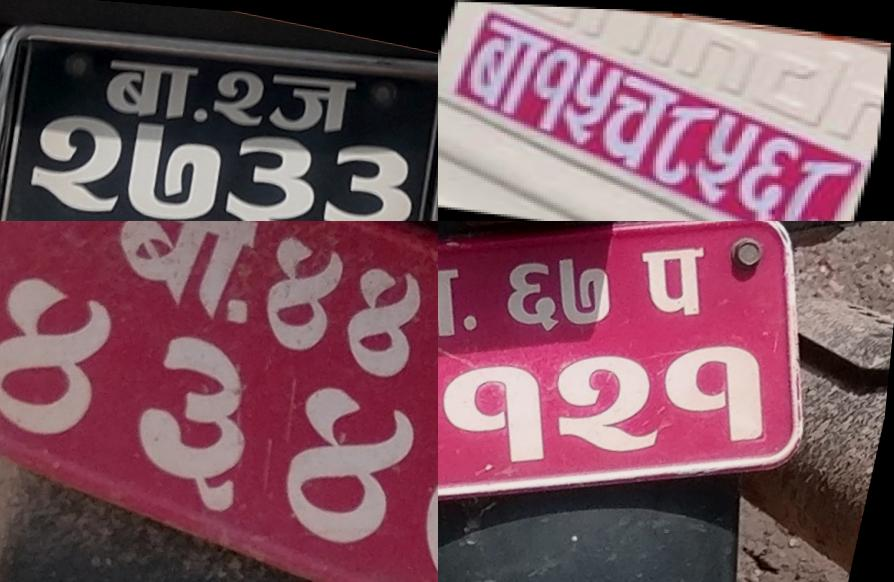0: (438, 250, 479, 345)
1: (552, 338, 675, 447), (520, 42, 589, 134)
2: (19, 95, 140, 221), (202, 55, 277, 129)
3: (121, 302, 286, 517), (438, 347, 568, 463), (662, 325, 789, 436), (221, 122, 333, 221), (319, 124, 433, 221)
4: (270, 361, 436, 558), (0, 252, 132, 450), (333, 238, 438, 380), (251, 221, 355, 350), (501, 250, 572, 330)
5: (688, 106, 765, 202), (559, 56, 624, 144)
6: (732, 125, 809, 221)
7: (117, 112, 237, 221), (548, 244, 626, 325)
8: (631, 227, 727, 314), (650, 97, 716, 185), (780, 151, 862, 221)
ba: (100, 221, 273, 325), (458, 13, 556, 118), (96, 44, 200, 126)
cha: (594, 70, 680, 172)
ja: (258, 60, 369, 141)
